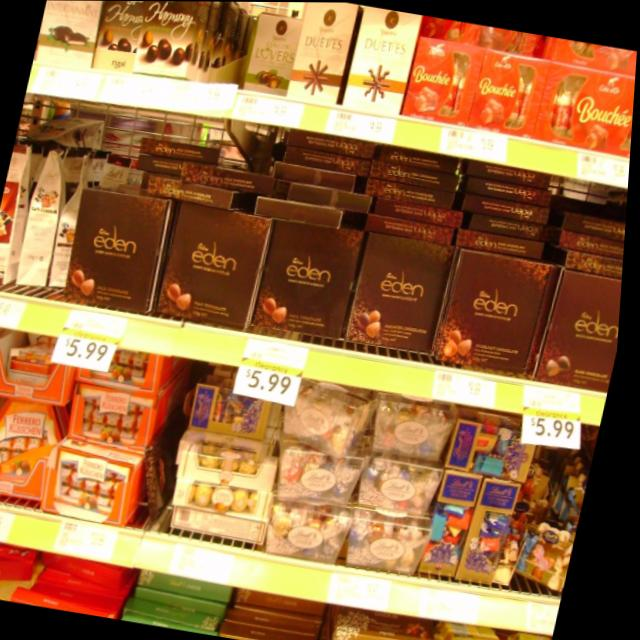q136: (135, 1, 209, 71)
